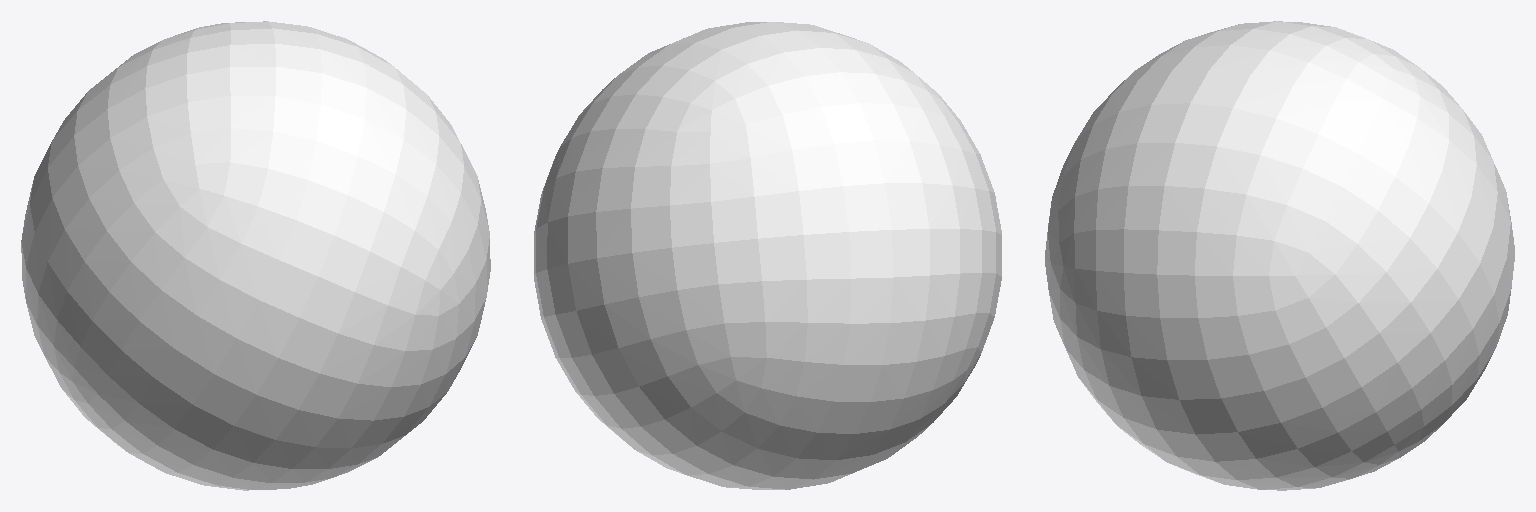
Rendered from moon.obj.
3 views of the same model, side by side, from view 1: azimuth 30°, elevation 25°; view 2: azimuth 150°, elevation 25°; view 3: azimuth 270°, elevation 25° (orthographic).
Visible parts, largest first — view 1: moon; view 2: moon; view 3: moon.
Boxes of the visible parts, box(x1,y1,x2,y2) form: moon: box(21, 21, 490, 490); moon: box(534, 22, 1001, 489); moon: box(1045, 21, 1514, 490).
Size of the model in its own units: 3.48 by 3.48 by 3.49.